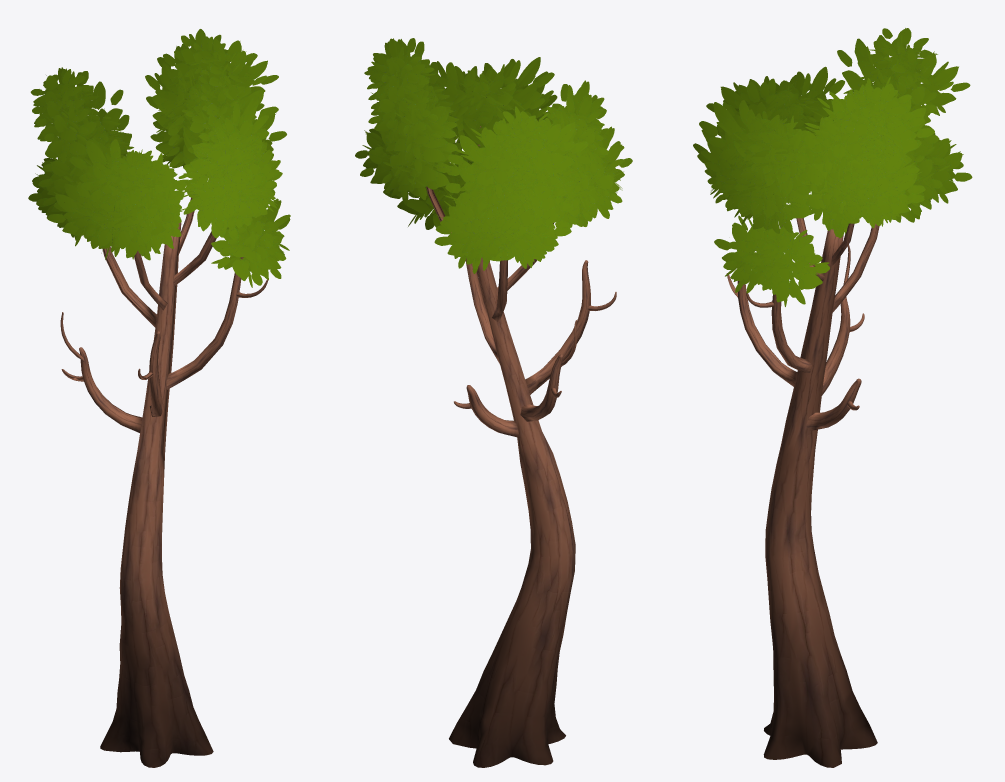
The model's file is oak_4.glb.
3 renders of one model, left to right at view 1: azimuth 30°, elevation 25°; view 2: azimuth 150°, elevation 25°; view 3: azimuth 270°, elevation 25°, orthographic. The views are drawn at different scales.
Parts seen in each view (by area): view 1: CommonTree_4; view 2: CommonTree_4; view 3: CommonTree_4.
Boxes of the visible parts, left/top/right/bottom form: CommonTree_4: left=28, top=29, right=290, bottom=767; CommonTree_4: left=355, top=38, right=632, bottom=767; CommonTree_4: left=693, top=28, right=972, bottom=767.
Size of the model in its own units: 3.83 by 9.44 by 3.76.
2 materials, 2 textured.
